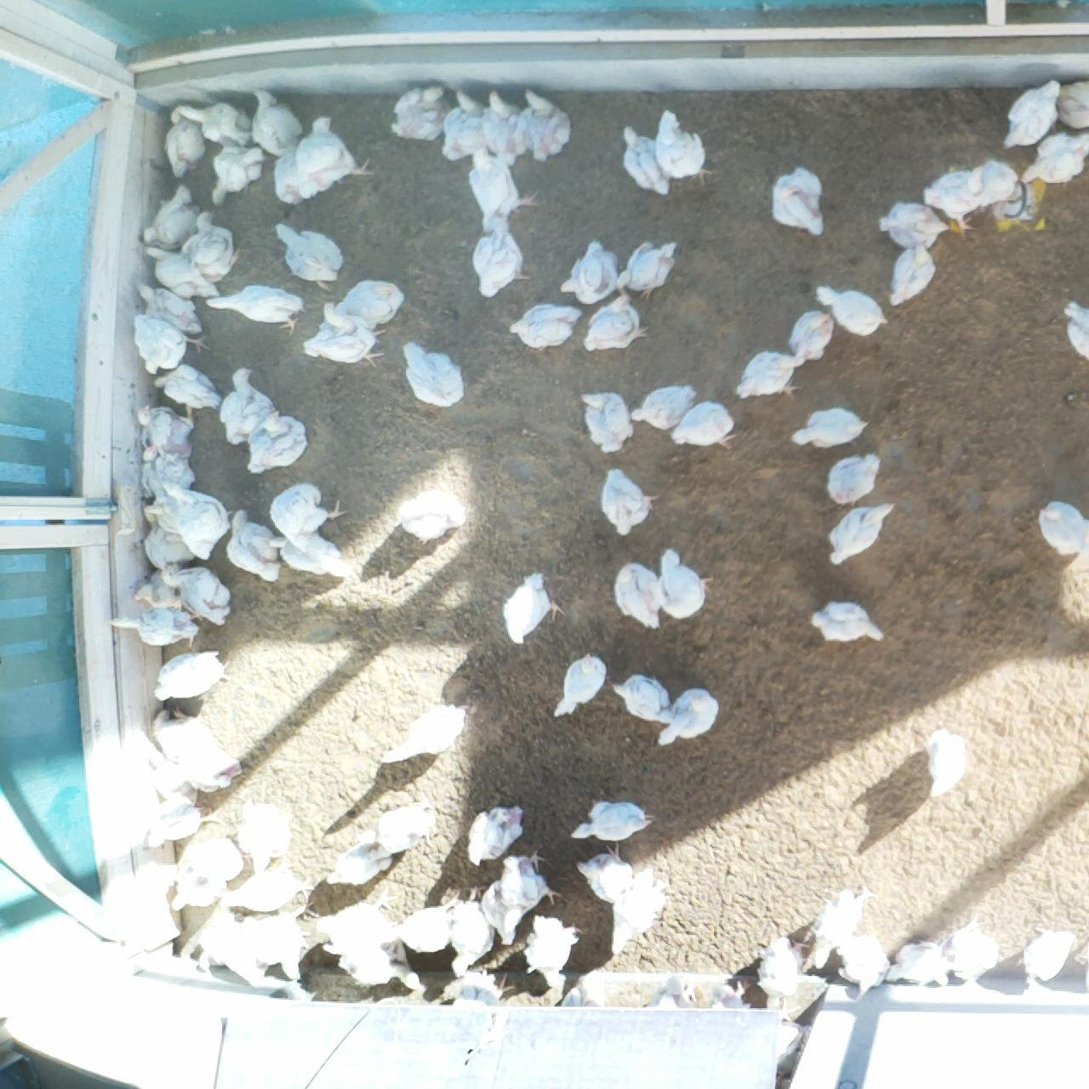chicken: (291, 111, 378, 201), (163, 830, 242, 917), (471, 142, 544, 235), (481, 847, 553, 941), (808, 880, 878, 972), (604, 865, 672, 959), (296, 299, 389, 367), (385, 692, 468, 768), (202, 279, 308, 338), (237, 901, 315, 981), (466, 207, 532, 301), (153, 555, 235, 630), (591, 455, 660, 544), (272, 214, 351, 289), (497, 568, 569, 648), (996, 71, 1067, 152), (382, 891, 463, 960), (826, 495, 902, 568), (655, 105, 718, 193), (165, 479, 231, 563), (270, 482, 346, 552), (225, 499, 286, 586), (215, 362, 276, 448), (244, 405, 313, 480), (612, 233, 687, 301), (440, 879, 493, 975), (311, 889, 400, 946), (134, 184, 205, 255), (550, 646, 612, 726), (729, 351, 815, 408), (810, 278, 889, 340), (764, 162, 828, 238), (507, 294, 588, 354), (213, 867, 312, 916), (924, 162, 987, 237), (613, 122, 675, 198), (572, 790, 656, 846), (126, 274, 203, 335), (874, 193, 951, 253), (321, 832, 393, 896), (557, 237, 620, 310), (153, 646, 229, 706), (395, 483, 471, 543), (183, 204, 243, 280), (374, 793, 441, 861), (399, 335, 468, 401), (144, 239, 223, 296), (788, 400, 871, 454), (802, 592, 883, 647), (523, 913, 580, 991), (476, 87, 530, 169), (655, 546, 714, 621), (463, 800, 530, 866), (1016, 920, 1082, 986), (950, 910, 1008, 985), (622, 375, 701, 430), (1016, 128, 1089, 187), (611, 556, 666, 634), (577, 293, 649, 352), (575, 385, 637, 453), (133, 398, 201, 460), (269, 532, 355, 581), (517, 86, 573, 161), (328, 273, 407, 326), (232, 794, 292, 863), (128, 306, 193, 369), (663, 683, 724, 750), (150, 360, 224, 415), (574, 841, 632, 911), (753, 929, 811, 999), (159, 98, 209, 179), (108, 603, 202, 646), (389, 80, 450, 146), (666, 398, 740, 452), (886, 242, 938, 318), (339, 943, 422, 990), (610, 668, 676, 727), (438, 87, 492, 159), (139, 795, 208, 851), (208, 138, 264, 207), (175, 100, 252, 150), (835, 929, 887, 1003), (916, 720, 967, 795), (827, 449, 891, 508), (247, 82, 300, 153), (884, 935, 951, 991), (444, 963, 513, 1011), (135, 445, 199, 495), (1032, 498, 1089, 554), (783, 304, 837, 363), (140, 500, 191, 559), (188, 913, 237, 974), (145, 745, 196, 801), (182, 751, 252, 791), (1049, 291, 1089, 361), (970, 155, 1023, 207), (124, 566, 179, 614), (147, 711, 217, 748), (272, 142, 311, 205), (645, 966, 702, 1008), (561, 962, 605, 1007), (1052, 79, 1089, 129), (709, 975, 755, 1012)
